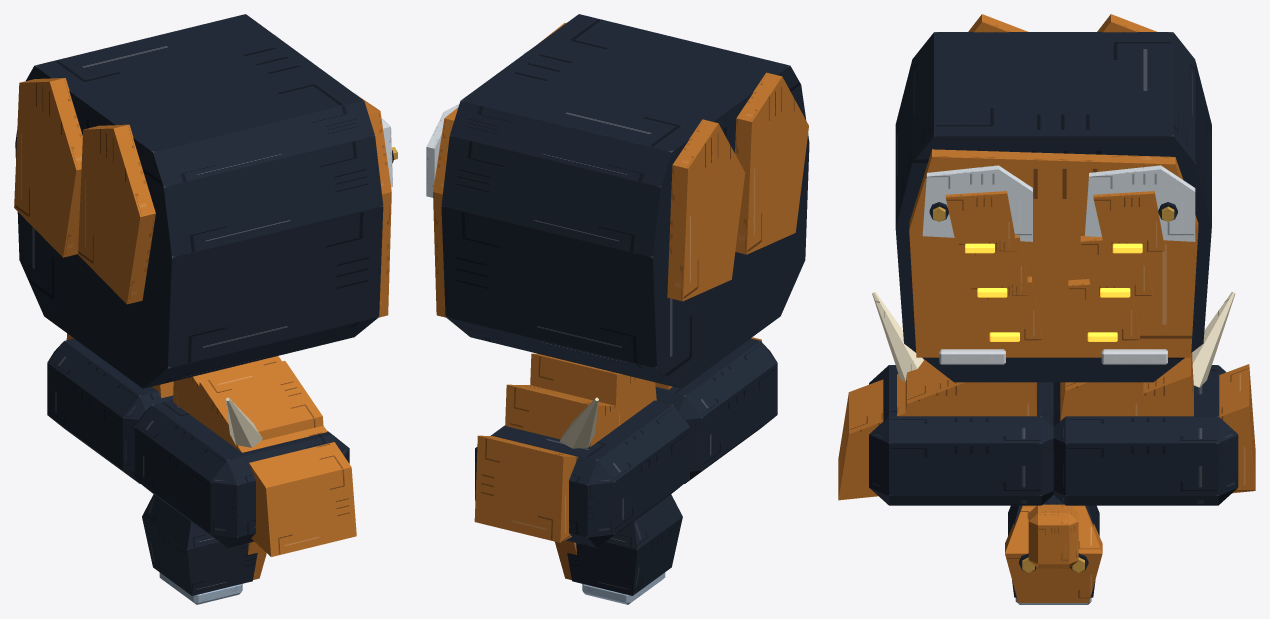
The model's file is vog.glb.
3 renders of one model, left to right at view 1: azimuth 30°, elevation 25°; view 2: azimuth 150°, elevation 25°; view 3: azimuth 270°, elevation 25°, orthographic.
Parts seen in each view (by area): view 1: chest, arm_R, arm_L, forearm_L; view 2: chest, arm_L, arm_R, forearm_L; view 3: chest, arm_L, arm_R, forearm_L.
Part boxes in pixels (left/top/right/bottom): chest: left=14, top=14, right=397, bottom=388; arm_R: left=134, top=356, right=356, bottom=556; arm_L: left=47, top=333, right=173, bottom=483; forearm_L: left=142, top=494, right=266, bottom=604; chest: left=426, top=14, right=809, bottom=388; arm_L: left=474, top=353, right=689, bottom=547; arm_R: left=655, top=337, right=777, bottom=483; forearm_L: left=555, top=494, right=682, bottom=604; chest: left=895, top=14, right=1211, bottom=382; arm_L: left=1028, top=292, right=1255, bottom=568; arm_R: left=838, top=292, right=1053, bottom=505; forearm_L: left=1005, top=495, right=1102, bottom=604.
Size of the model in its own units: 0.2955 by 0.5515 by 0.401.
8 materials, 8 textured.
